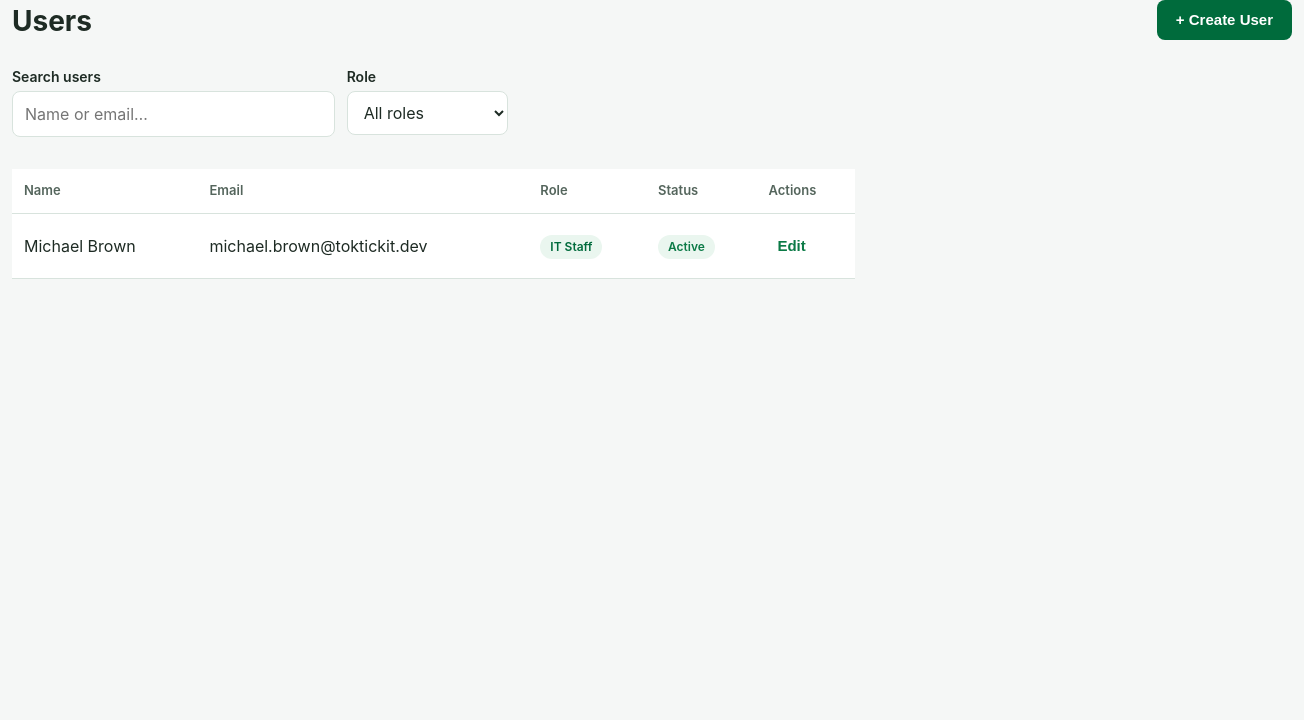
Test: UserManagement › shows a duplicate email refusal under the email field
The width and height of the screenshot is (1304, 720).
Click the button "+ Create User" at [1224, 20], box [1157,0,1292,40]
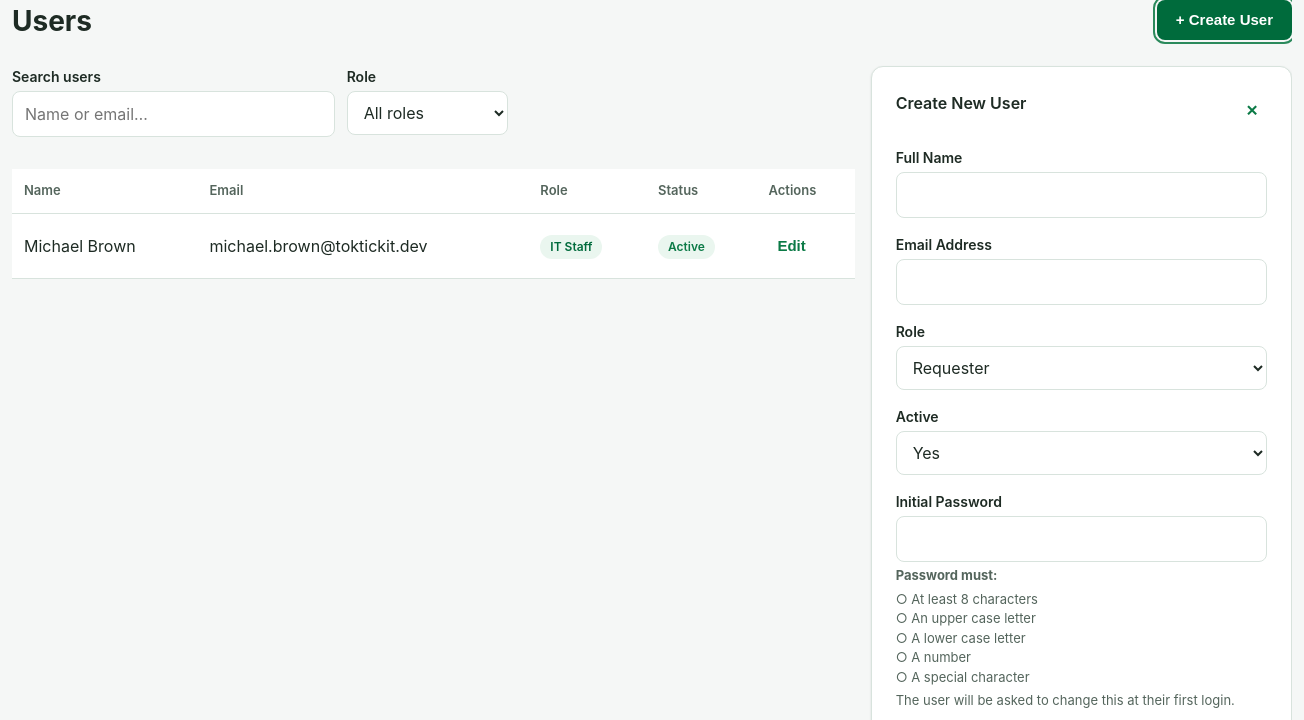
Type "Alex Thompson" into the field labelled "Full Name" at [1081, 195], box [896,172,1267,218]
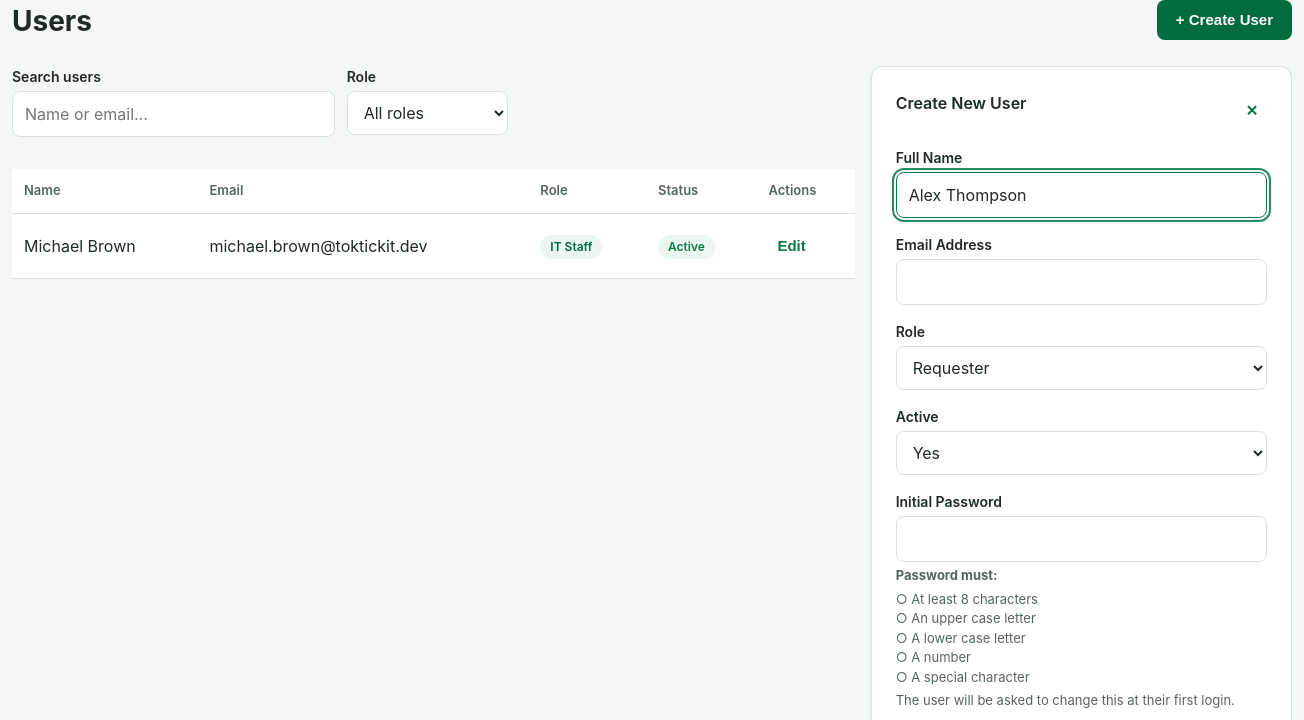
Type "michael.brown@toktickit.dev" into the field labelled "Email Address" at [1081, 282], box [896,259,1267,305]
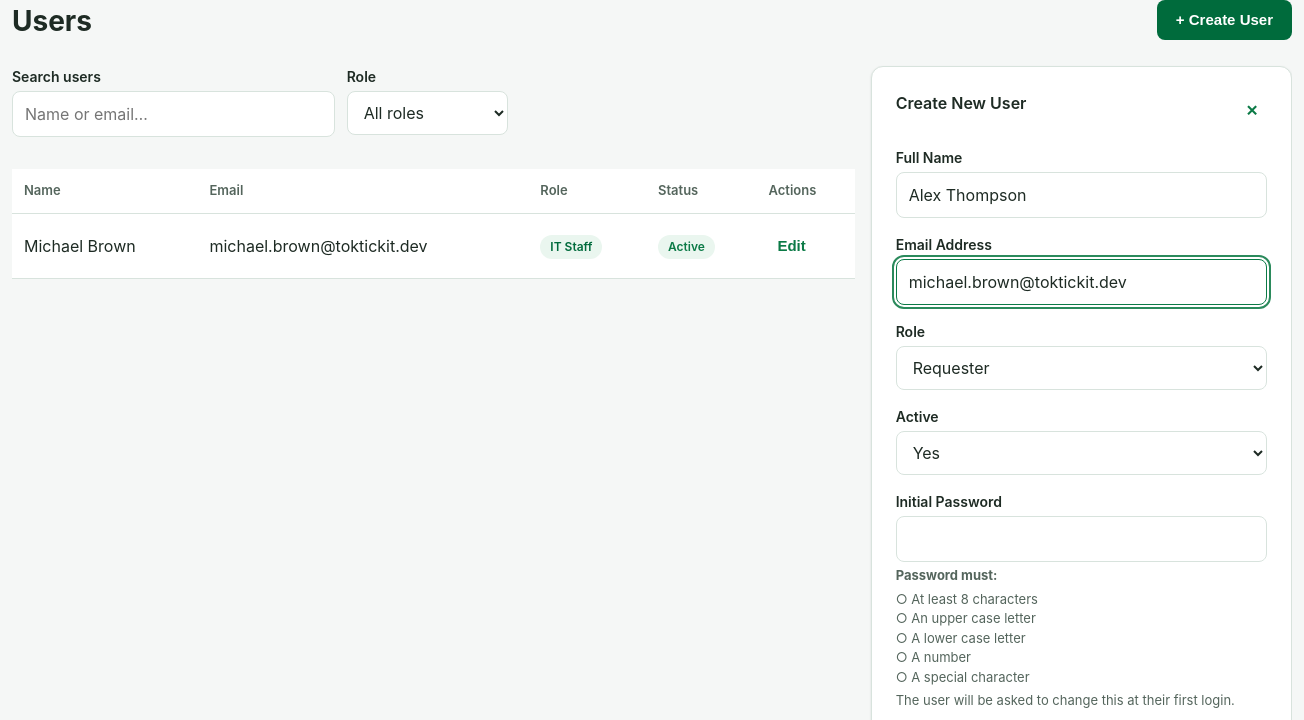
Type "Initial!2026" into the password field labelled "Initial Password" at [1081, 539], box [896,516,1267,562]
(page scrolled)
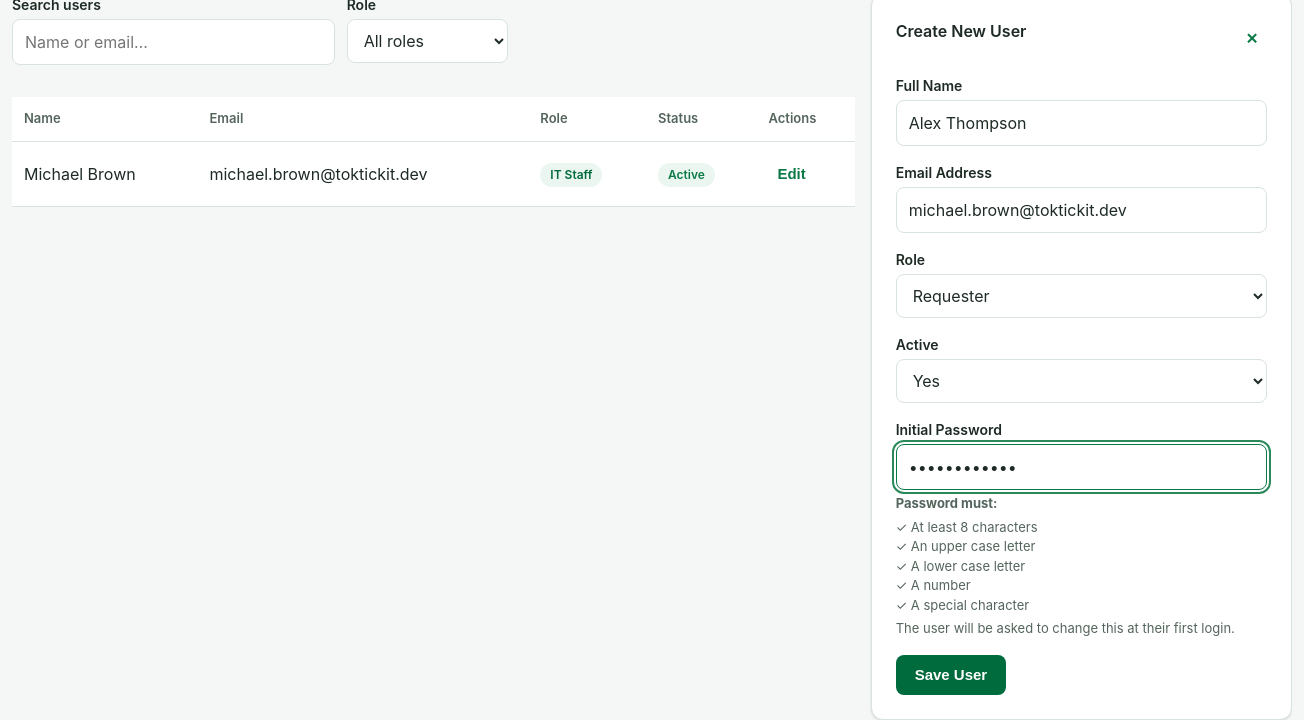
Click the button "Save User" at [951, 674], box [896,654,1006,694]
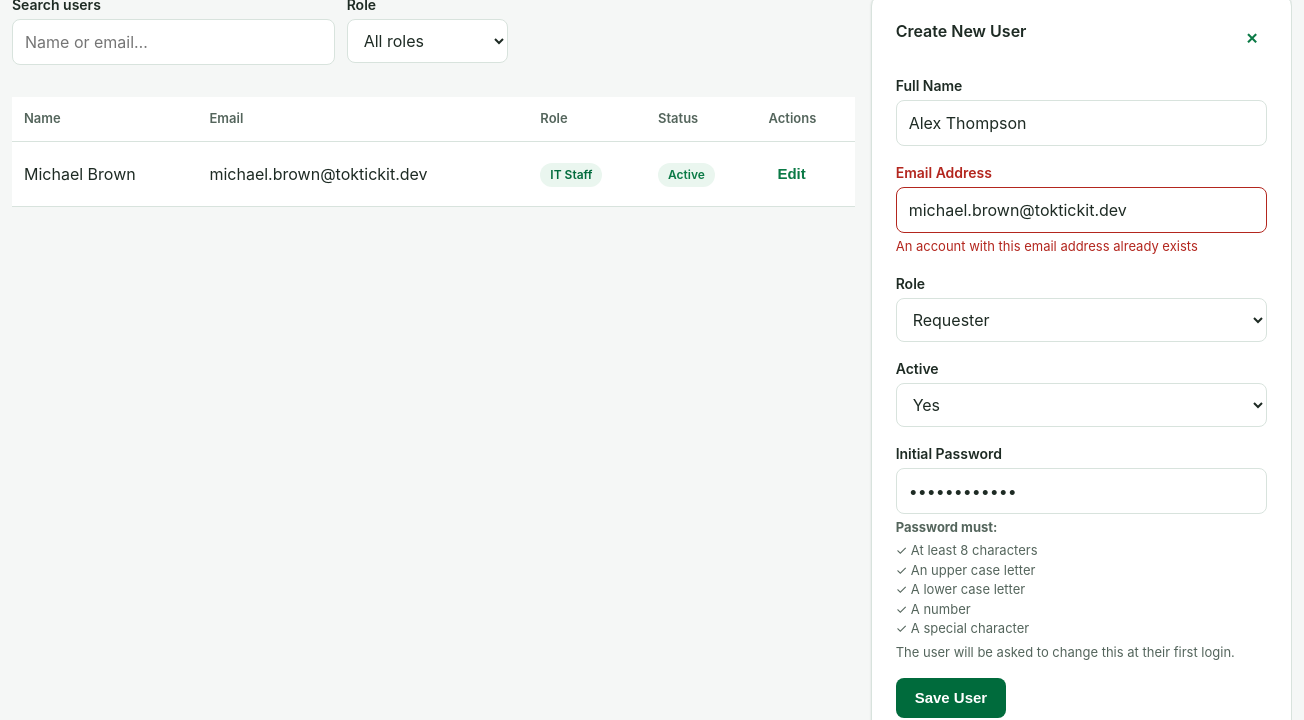
Check: the text "An account with this email address already exists" is shown, box [896,238,1198,254]
